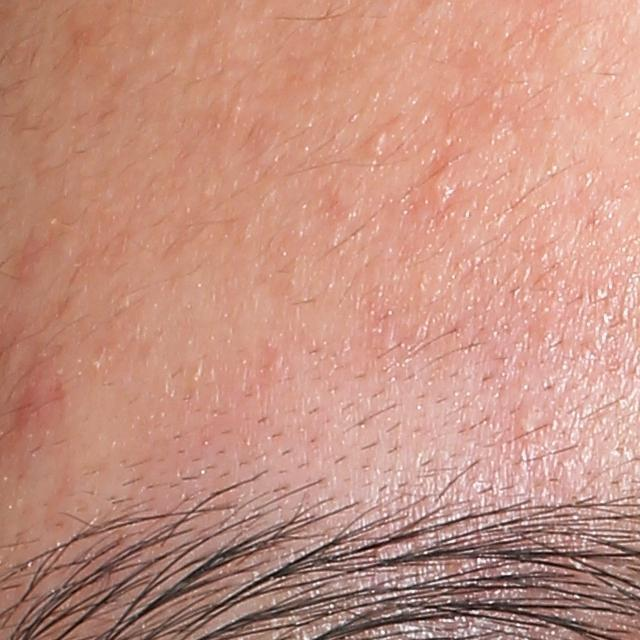comedo: (364, 130, 392, 162), (426, 168, 451, 202)
